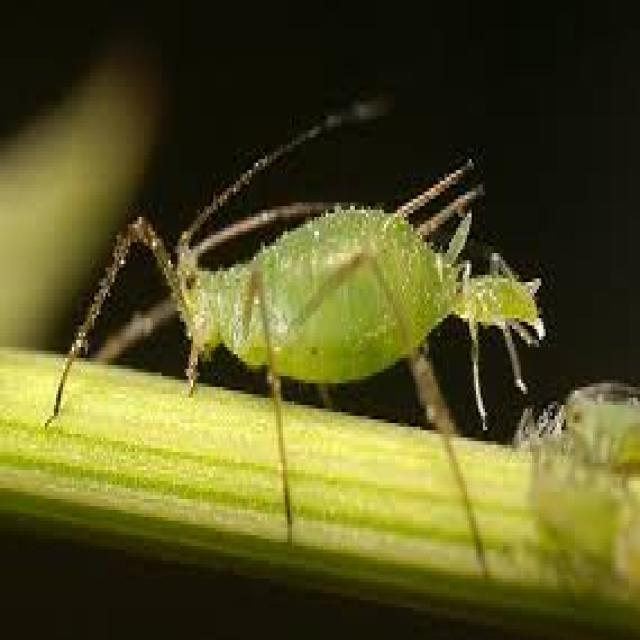Aphid: (39, 111, 572, 464)
